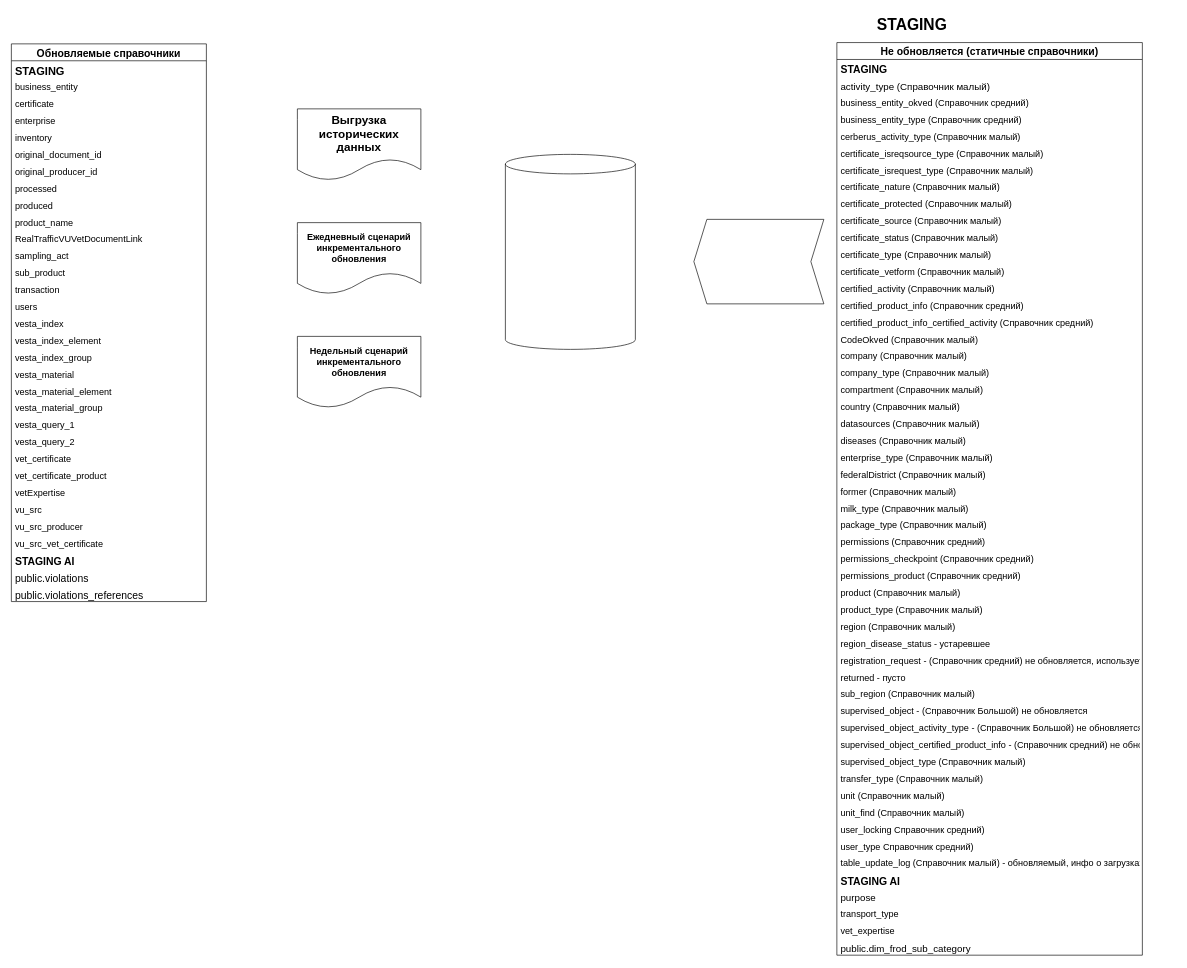
This 1187x968 diagram has some shape labels left out. Here are the shapes that lost their labels. From the top down, the centre of each, then its label:
At (x=570, y=251): "DWH GP".
At (x=758, y=261): "Прямая единоразовая выгрузка".
